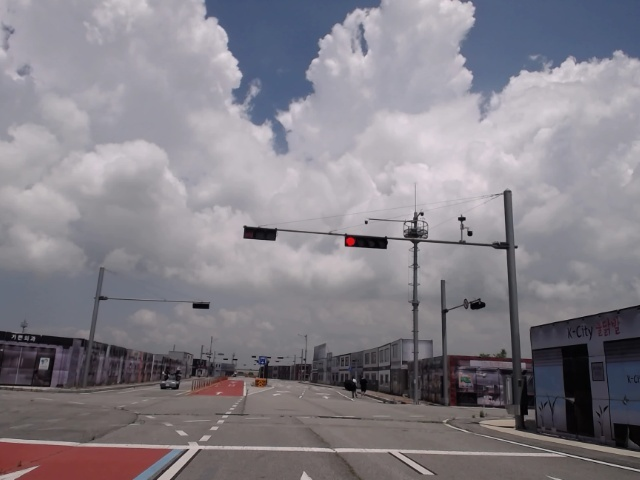red_4: (344, 235, 387, 249)
